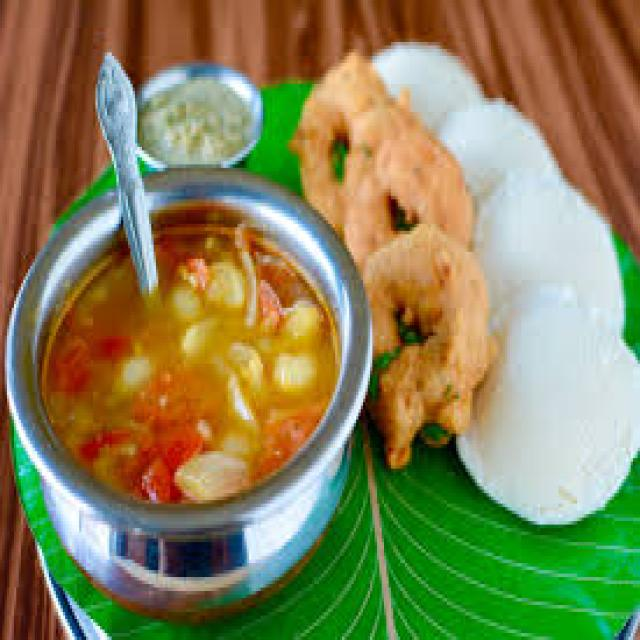IDLI: (456, 291, 638, 516), (477, 168, 622, 320), (443, 99, 559, 199), (377, 40, 483, 125)
MEDU VADA: (366, 226, 497, 455), (342, 113, 471, 262), (295, 74, 390, 235)
